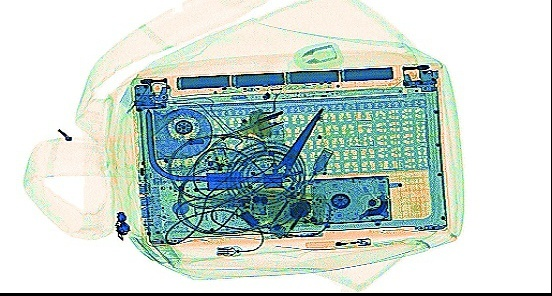lighter: (300, 236, 371, 247)
scissors: (240, 105, 323, 216)
